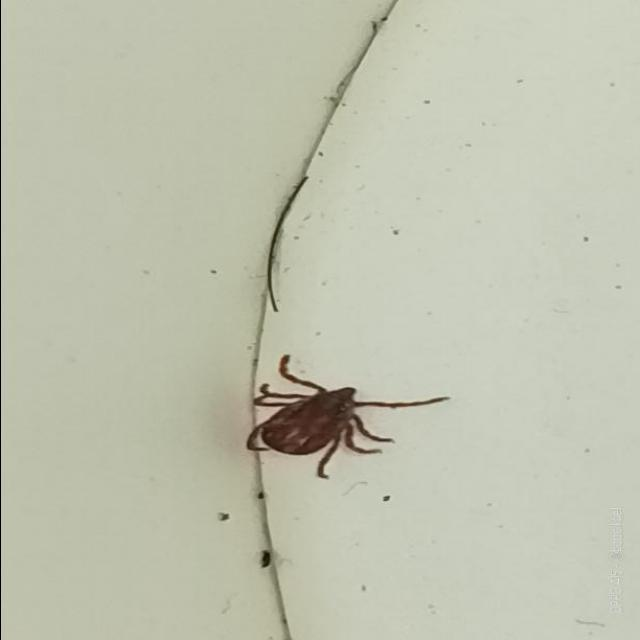Rhipicephalus Sanguineus-M: (245, 354, 450, 479)
